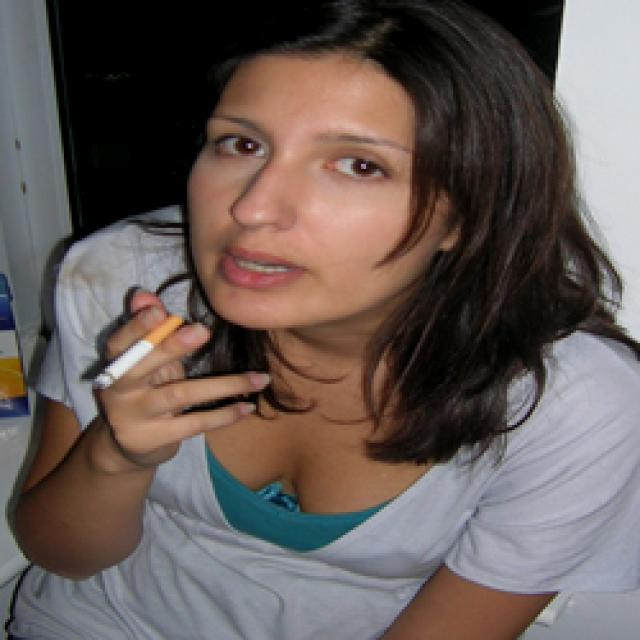Smooking: (86, 314, 201, 416)
